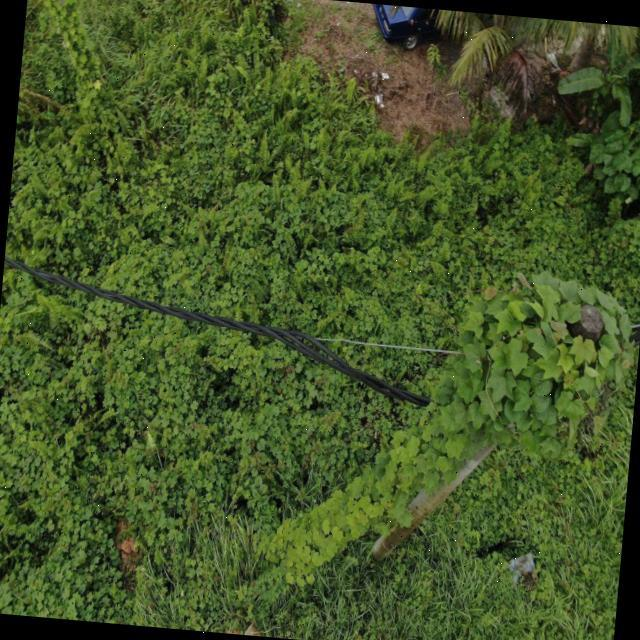critical vegetation: (231, 235, 640, 638)
